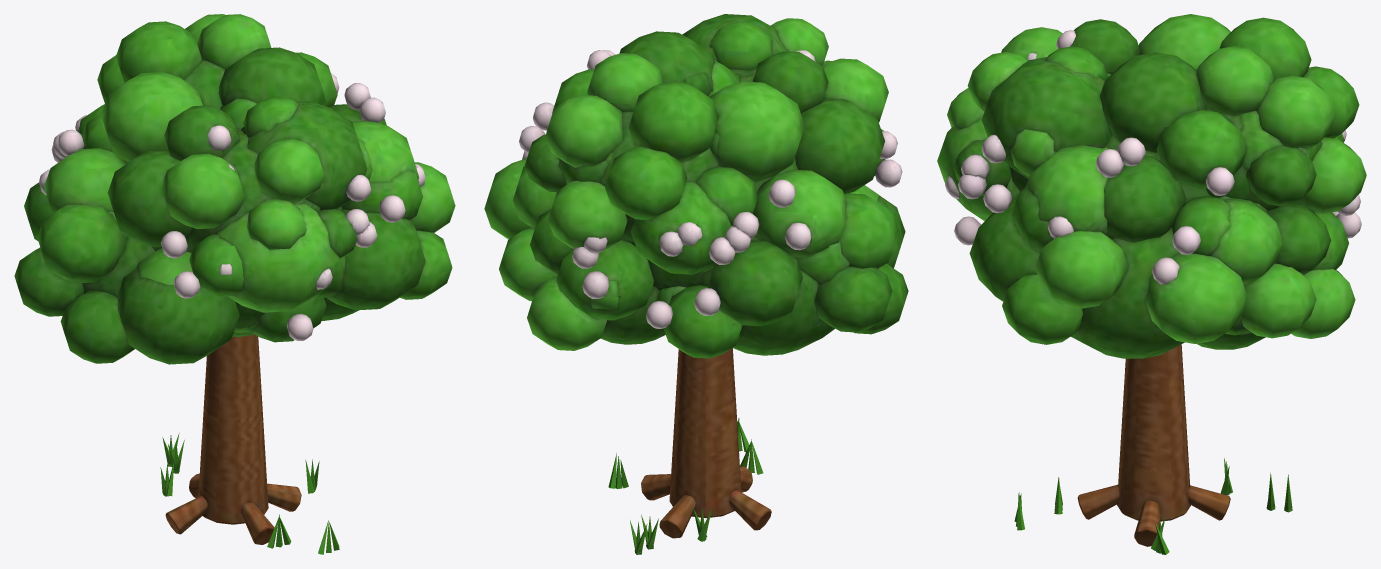
Rendered from white_peach_tree.glb.
3 views of the same model, side by side, from view 1: azimuth 30°, elevation 25°; view 2: azimuth 150°, elevation 25°; view 3: azimuth 270°, elevation 25° (orthographic). The views are drawn at different scales.
Parts seen in each view (by area): view 1: crown, white_peach_tree; view 2: crown, white_peach_tree; view 3: crown, white_peach_tree.
Part boxes in pixels (x1,y1,x2,y2): crown: (14,14,455,364); white_peach_tree: (160,334,339,554); crown: (484,14,908,358); white_peach_tree: (608,348,771,554); crown: (937,14,1366,358); white_peach_tree: (1014,344,1292,554).
Bounding box in the file's own units: 1.13 × 1.3 × 1.03.
Materials: 1 (1 with a texture image).
